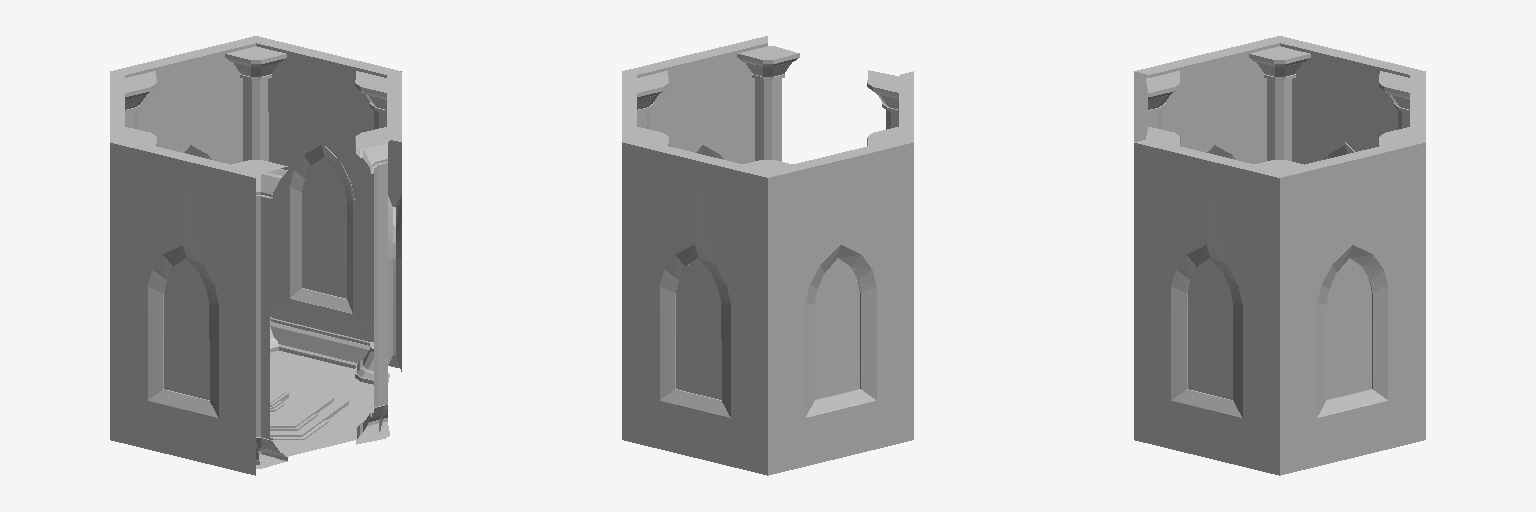
The model's file is tot master sword.obj.
3 renders of one model, left to right at view 1: azimuth 30°, elevation 25°; view 2: azimuth 150°, elevation 25°; view 3: azimuth 270°, elevation 25°, orthographic.
Parts seen in each view (by area): view 1: initialShadingGroup group2 chamber2, initialShadingGroup group2 chamber5, initialShadingGroup group1 chamber, initialShadingGroup group2 window_pane2, initialShadingGroup group2 window_pane5, pillar5 group2, group2 pillar4, initialShadingGroup group2 chamber4, initialShadingGroup platform, group2 pillar7, group2 pillar6, initialShadingGroup group2 chamber3 (+2 smaller); view 2: initialShadingGroup group2 chamber1, initialShadingGroup group1 chamber, initialShadingGroup group2 chamber4, initialShadingGroup window_pane group1, initialShadingGroup group2 window_pane1, pillar5 group2, group2 pillar4, group2 pillar6, initialShadingGroup group2 chamber5, initialShadingGroup group2 chamber2; view 3: initialShadingGroup group2 chamber4, initialShadingGroup group2 chamber5, initialShadingGroup group2 chamber2, initialShadingGroup group2 chamber1, initialShadingGroup group2 window_pane5, initialShadingGroup group2 window_pane4, group2 pillar3, group2 pillar4, initialShadingGroup group1 chamber, pillar1.
Part boxes in pixels (x1,y1,x2,y2): initialShadingGroup group2 chamber2: (110,139,259,475); initialShadingGroup group2 chamber5: (256,36,401,386); initialShadingGroup group1 chamber: (110,36,255,164); initialShadingGroup group2 window_pane2: (164,258,209,399); initialShadingGroup group2 window_pane5: (302,157,346,298); pillar5 group2: (355,127,389,444); group2 pillar4: (232,160,287,468); initialShadingGroup group2 chamber4: (327,72,401,435); initialShadingGroup platform: (270,367,348,439); group2 pillar7: (225,46,286,352); group2 pillar6: (355,71,389,384); initialShadingGroup group2 chamber3: (259,422,378,462); initialShadingGroup group2 chamber1: (768,139,913,475); initialShadingGroup group1 chamber: (622,139,767,475); initialShadingGroup group2 chamber4: (623,36,767,163); initialShadingGroup window_pane group1: (676,258,721,399); initialShadingGroup group2 window_pane1: (815,258,859,399); pillar5 group2: (737,46,799,161); group2 pillar4: (867,70,898,129); group2 pillar6: (637,71,668,129); initialShadingGroup group2 chamber5: (622,71,636,141); initialShadingGroup group2 chamber2: (899,71,913,141); initialShadingGroup group2 chamber4: (1134,139,1279,475); initialShadingGroup group2 chamber5: (1280,139,1425,475); initialShadingGroup group2 chamber2: (1134,36,1279,163); initialShadingGroup group2 chamber1: (1280,36,1424,164); initialShadingGroup group2 window_pane5: (1326,258,1371,399); initialShadingGroup group2 window_pane4: (1188,258,1232,399); group2 pillar3: (1249,46,1310,160); group2 pillar4: (1146,71,1180,129); initialShadingGroup group1 chamber: (1410,71,1425,141); pillar1: (1379,71,1409,129).
Size of the model in its own units: 270 by 264 by 234.